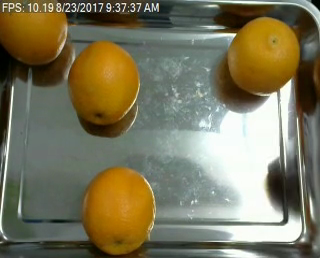Orange: (82, 165, 156, 254), (67, 41, 140, 124), (225, 16, 298, 94), (1, 2, 68, 65)
